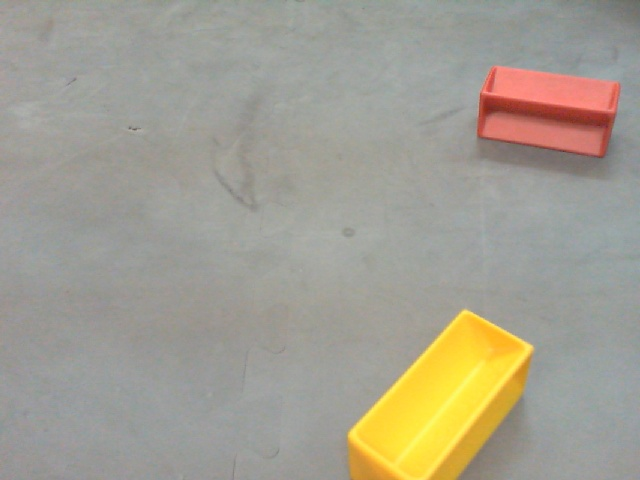RedSample: (476, 63, 623, 160)
YellowSample: (345, 308, 533, 480)
